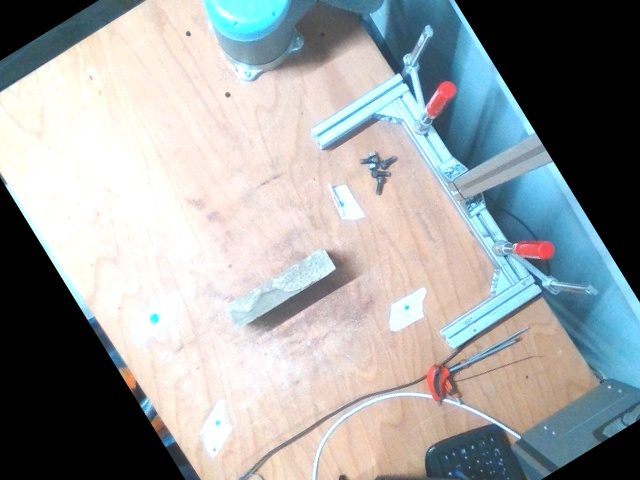brick-side: (225, 248, 336, 330)
